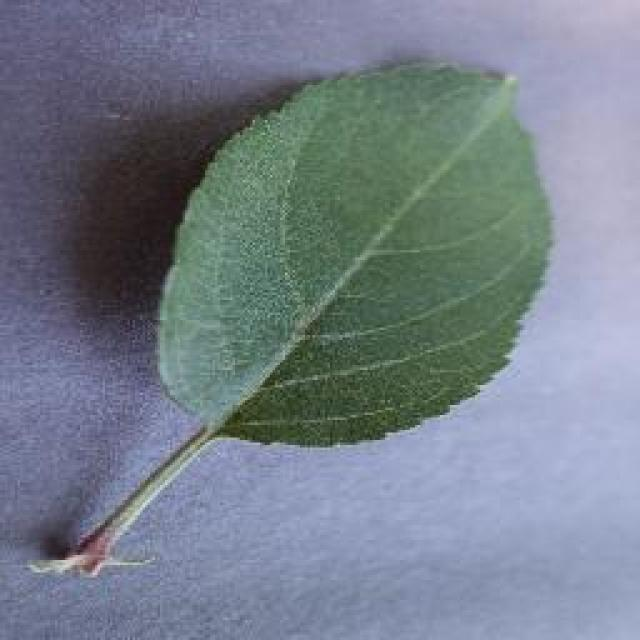apple healthy: (25, 52, 555, 578)
